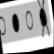correct: (10, 11, 21, 36)
not correct: (36, 0, 52, 41)
